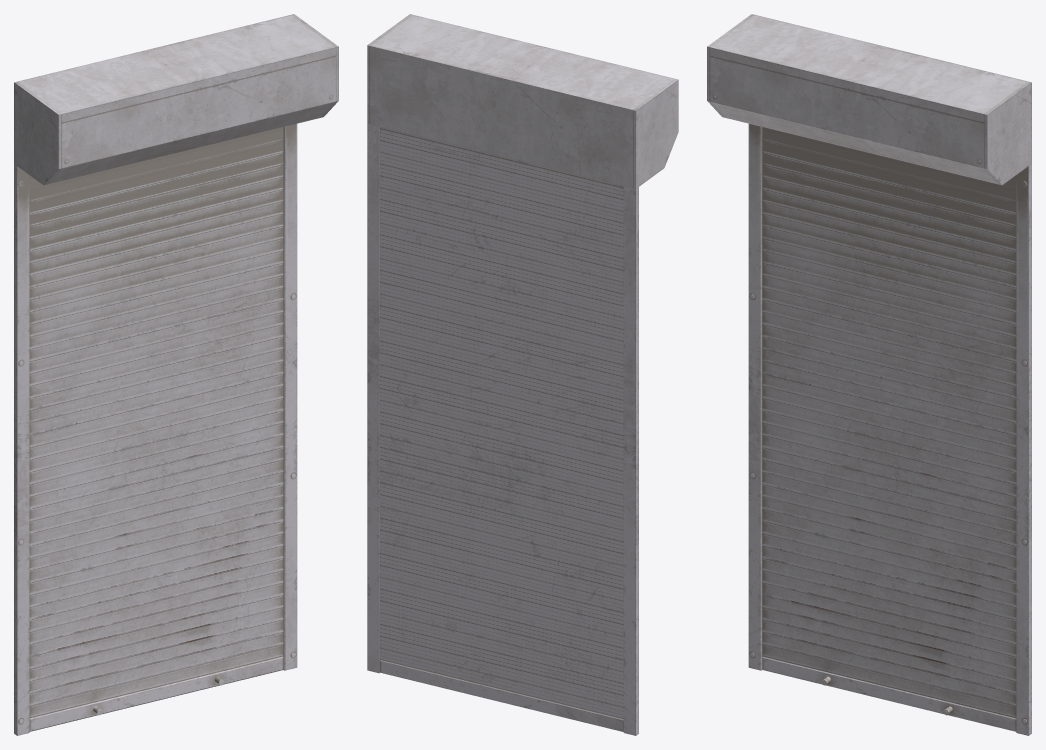
Rendered from a1-shutter.glb.
The picture shows the model from 3 angles, left to right: view 1: azimuth 30°, elevation 25°; view 2: azimuth 150°, elevation 25°; view 3: azimuth 330°, elevation 25°; orthographic projection. The views are drawn at different scales.
Parts seen in each view (by area): view 1: rollershutter_door; view 2: rollershutter_door; view 3: rollershutter_door.
Part boxes in pixels (left/top/right/bottom): rollershutter_door: left=14, top=14, right=338, bottom=735; rollershutter_door: left=367, top=14, right=678, bottom=735; rollershutter_door: left=707, top=14, right=1031, bottom=735.
Size of the model in its own units: 1.08 by 2.4 by 0.3.
Materials: 1 (1 with a texture image).
